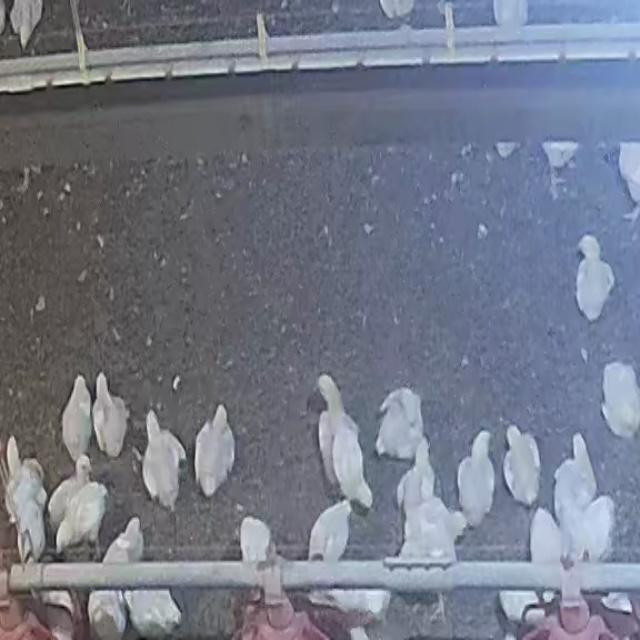chicken: (141, 410, 187, 510), (314, 374, 352, 485), (194, 404, 236, 499), (395, 508, 465, 562), (57, 486, 107, 553), (377, 390, 424, 460), (458, 431, 492, 527), (92, 372, 129, 460), (126, 577, 181, 636), (396, 436, 436, 516), (554, 430, 589, 521), (333, 431, 373, 510), (567, 495, 614, 562), (601, 361, 640, 440), (503, 425, 542, 504), (7, 439, 47, 516), (574, 238, 610, 322), (61, 375, 94, 465), (306, 501, 353, 562), (48, 462, 91, 520), (105, 518, 145, 578), (90, 588, 136, 640), (494, 588, 546, 633), (11, 486, 41, 563), (530, 507, 566, 569), (615, 139, 640, 218), (238, 516, 274, 570), (7, 0, 45, 51), (46, 589, 77, 640), (542, 140, 580, 179)
